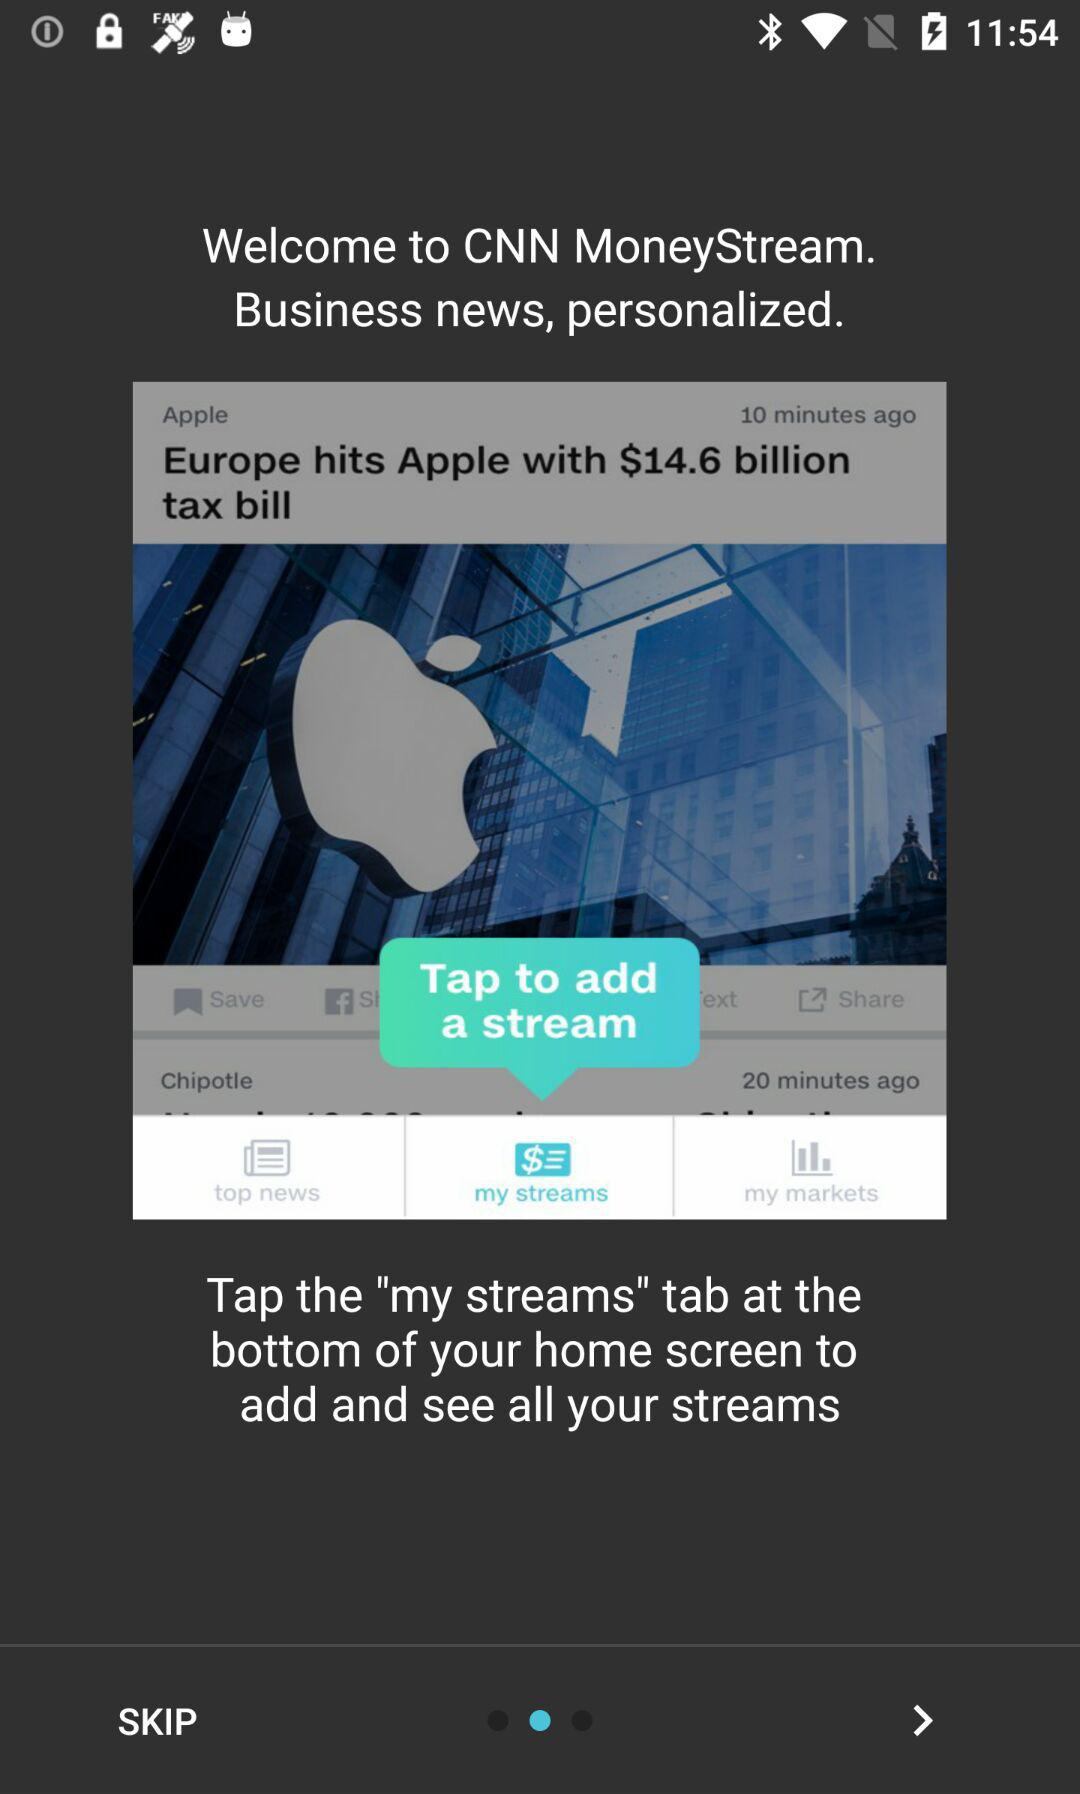Icon: (913, 1704, 934, 1738)
Image: (133, 382, 948, 1221)
PageIndicator: (487, 1707, 594, 1734)
Text: (208, 1275, 862, 1433), (202, 226, 875, 276), (237, 290, 844, 338), (119, 1707, 199, 1736)
UpperTaskBar: (1, 1, 1080, 64)
